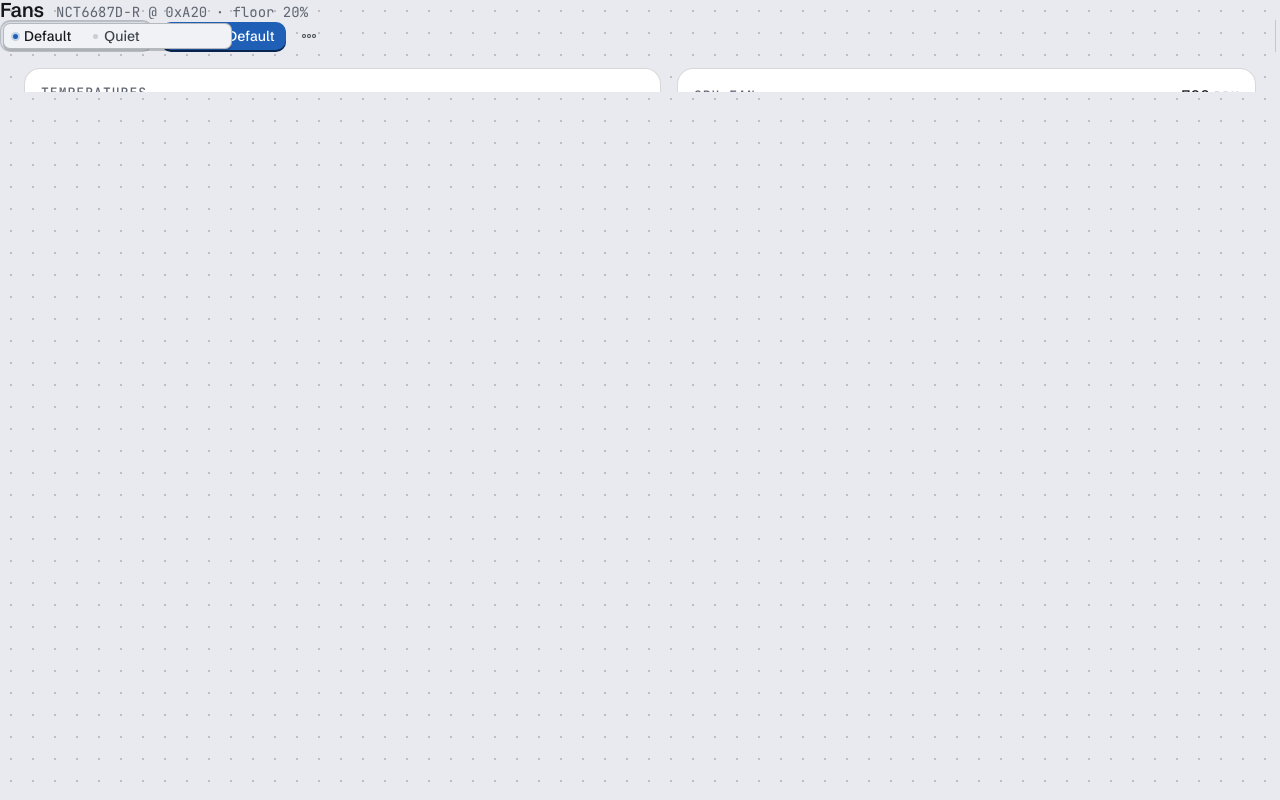
it: the fan profiles in the strip › stand in the strip, and the menu holds duplicate, rename and a delete that names its profile
Click the button named "The fan profiles" at (308, 36), box [294,22,322,50]
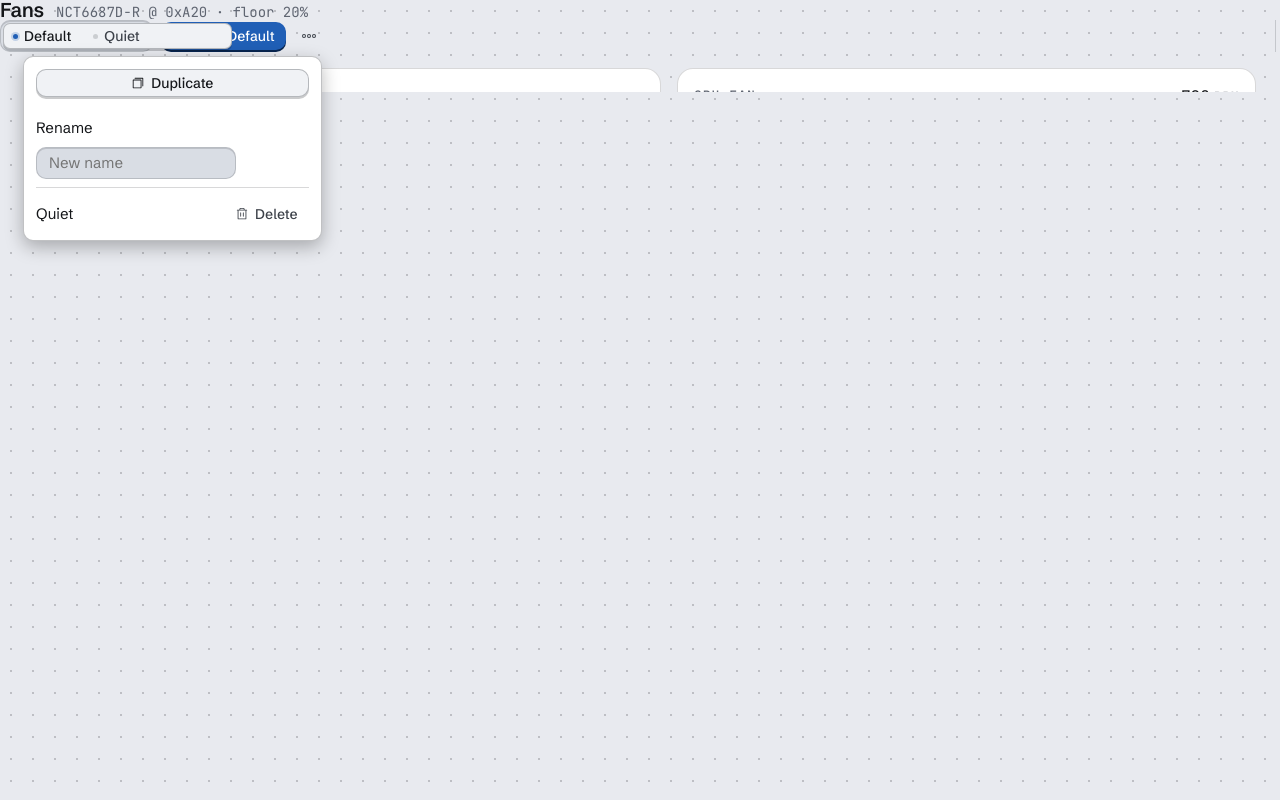
Expected: the button "Duplicate" is shown, [36,69,309,97]
Expected: the field named "New profile name" is shown, [36,147,236,179]
Note: Delete asks first, and says which profile it is about.
Click the button with aria-label "Delete profile Quiet" at (266, 214), box [224,200,309,228]
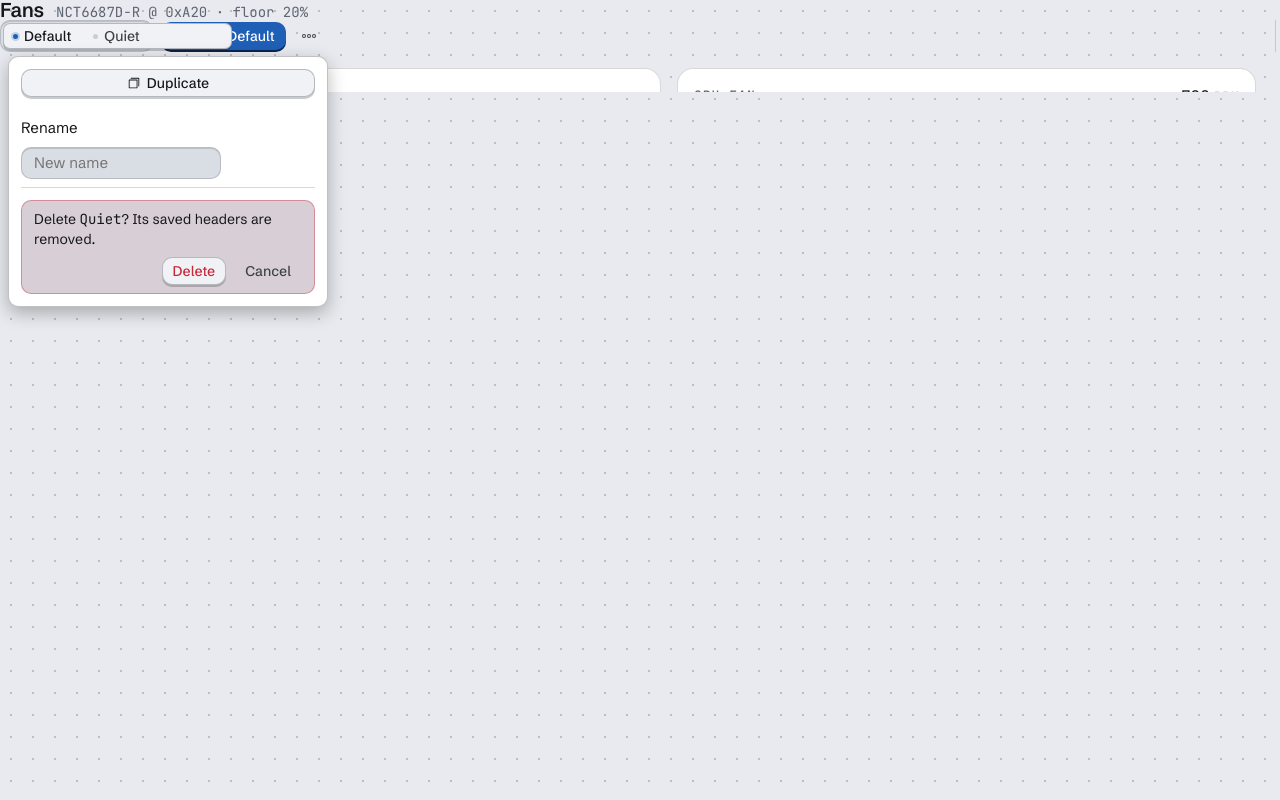
Expected: the message shows "Quiet", [80,210,122,228]
Expected: the button "Cancel" is shown, [234,257,302,285]
